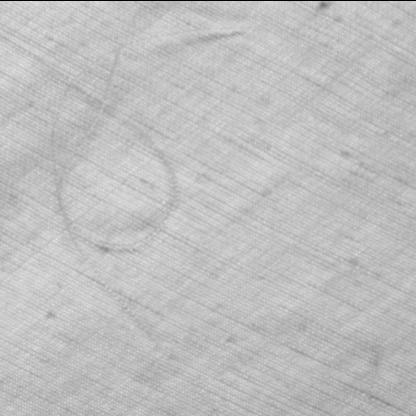objects: (45, 21, 251, 335)
